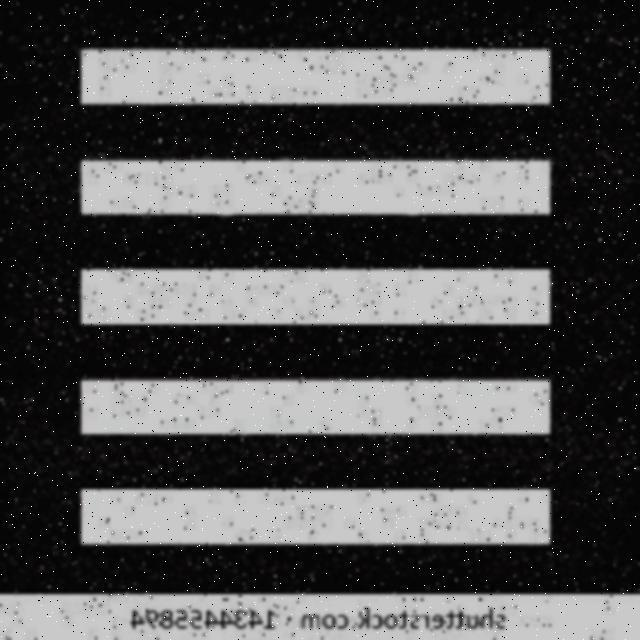Pedestrian crosswalk: (37, 14, 588, 574)
